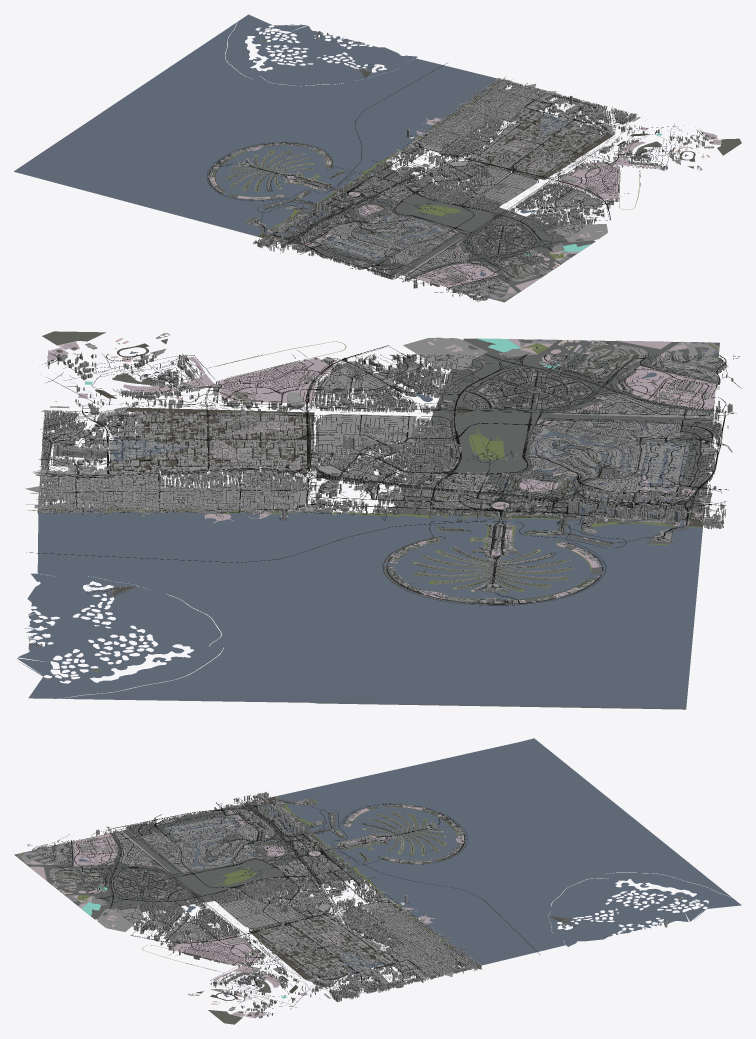
File: Dubai_Im_piece_2.glb
3 renders of one model, top to bottom at view 1: azimuth 30°, elevation 25°; view 2: azimuth 150°, elevation 25°; view 3: azimuth 270°, elevation 25°, orthographic. The views are drawn at different scales.
Visible parts, largest first — view 1: land.001, Build_1.001, road.001, Build_2.001; view 2: land.001, road.001, Build_1.001, Build_2.001; view 3: land.001, Build_1.001, road.001, Build_2.001.
Part boxes in pixels (x1=…): land.001: x1=14, y1=14, x2=741, y2=302; Build_1.001: x1=210, y1=32, x2=708, y2=299; road.001: x1=207, y1=33, x2=713, y2=301; Build_2.001: x1=208, y1=31, x2=709, y2=300; land.001: x1=17, y1=331, x2=719, y2=709; road.001: x1=26, y1=345, x2=741, y2=645; Build_1.001: x1=29, y1=353, x2=732, y2=650; Build_2.001: x1=29, y1=354, x2=733, y2=646; land.001: x1=14, y1=738, x2=741, y2=1024; Build_1.001: x1=42, y1=793, x2=667, y2=1018; road.001: x1=27, y1=792, x2=665, y2=1016; Build_2.001: x1=34, y1=791, x2=668, y2=1018.
Size of the model in its own units: 270 by 6.06 by 291.
